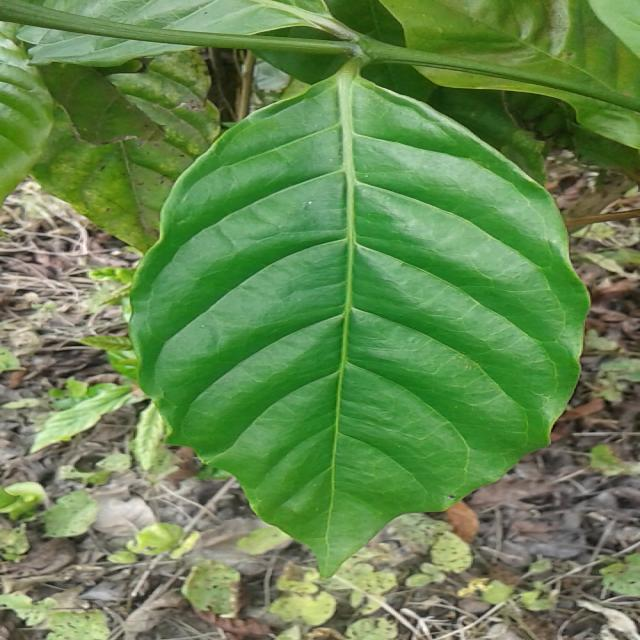Sanas: (125, 82, 590, 579)
